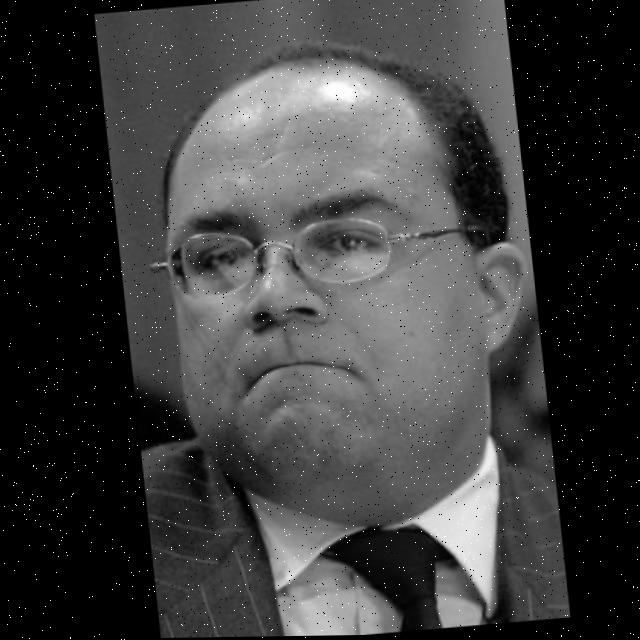face: (132, 51, 525, 510)
